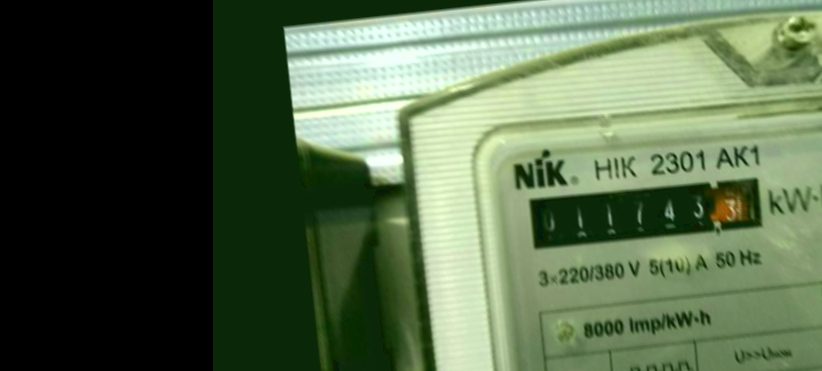0: (542, 204, 559, 234)
1: (603, 198, 618, 227), (574, 201, 587, 229)
3: (692, 191, 708, 220), (723, 197, 740, 223)
4: (662, 194, 679, 223)
7: (632, 195, 650, 224)
screen: (518, 162, 778, 263)
